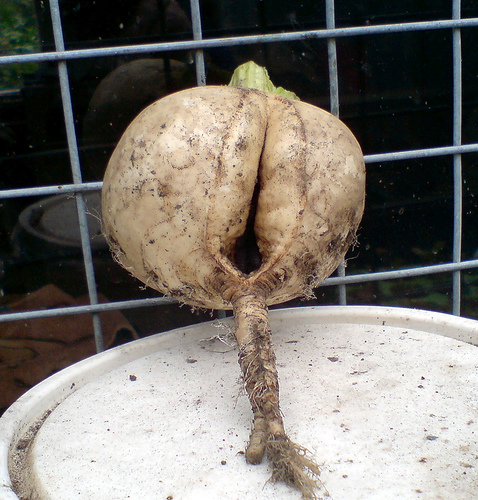turnip: (98, 80, 369, 498)
